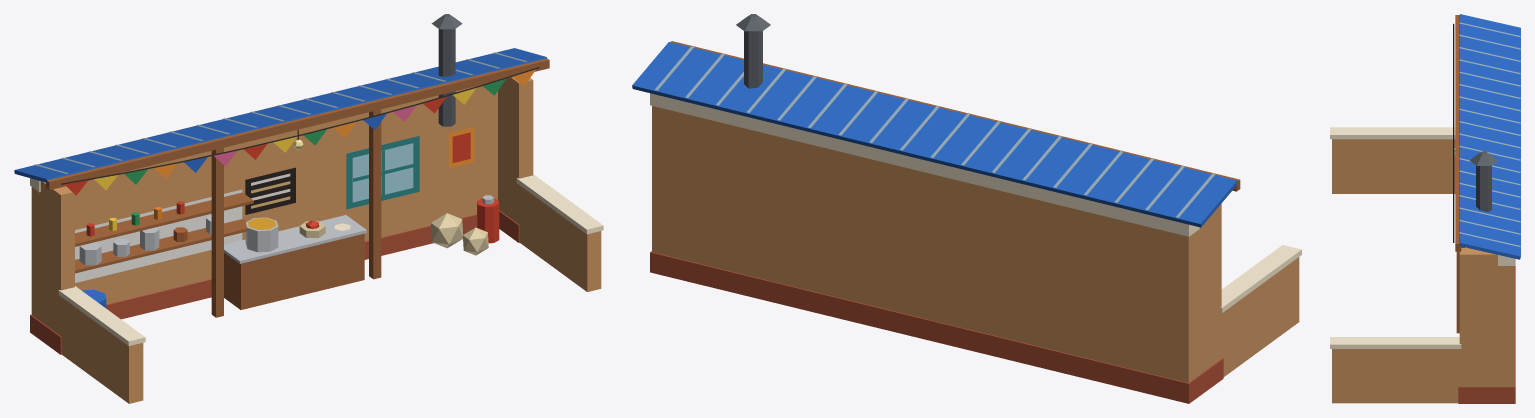
File: hut_1.glb
The picture shows the model from 3 angles, left to right: view 1: azimuth 30°, elevation 25°; view 2: azimuth 150°, elevation 25°; view 3: azimuth 270°, elevation 25°; orthographic projection. The views are drawn at different scales.
Parts seen in each view (by area): view 1: hut_1; view 2: hut_1; view 3: hut_1.
Part boxes in pixels (x1=…): hut_1: x1=14, y1=14, x2=603, y2=403; hut_1: x1=632, y1=14, x2=1301, y2=403; hut_1: x1=1330, y1=14, x2=1520, y2=403.
Size of the model in its own units: 8.9 by 3.96 by 3.14.
1 material, 1 textured.
